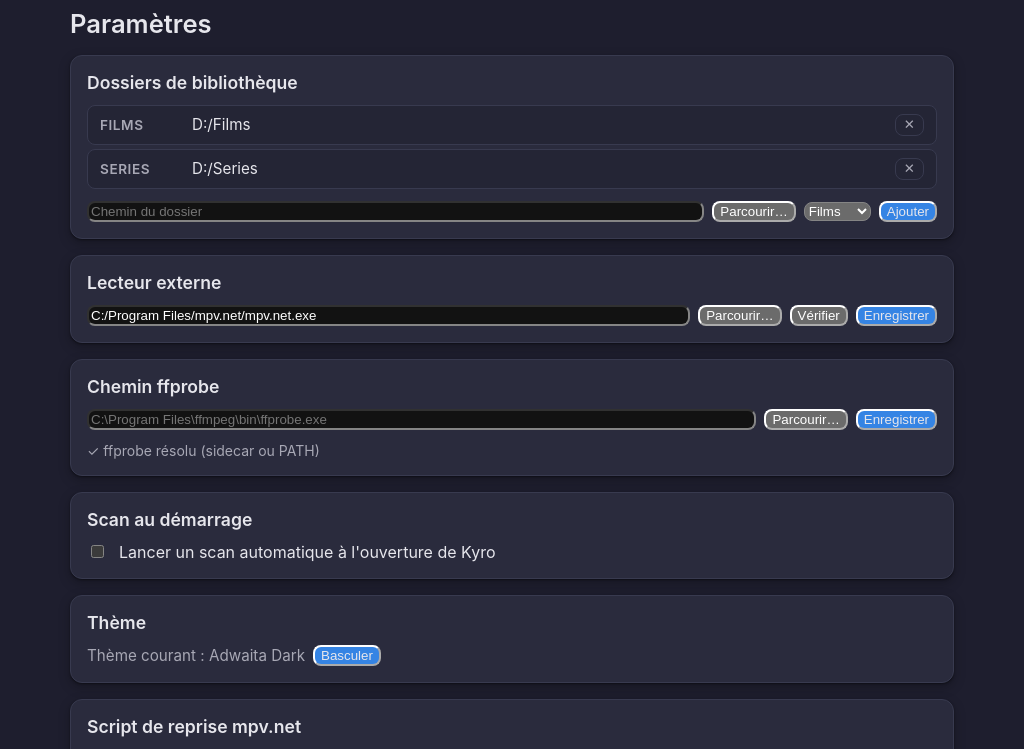
Test case: /settings — section Dossiers de bibliothèque › ouvre le dialogue natif quand l'utilisateur clique sur Parcourir…
Click the 1st button "Parcourir…".
click(754, 212)  # box [712, 201, 796, 222]
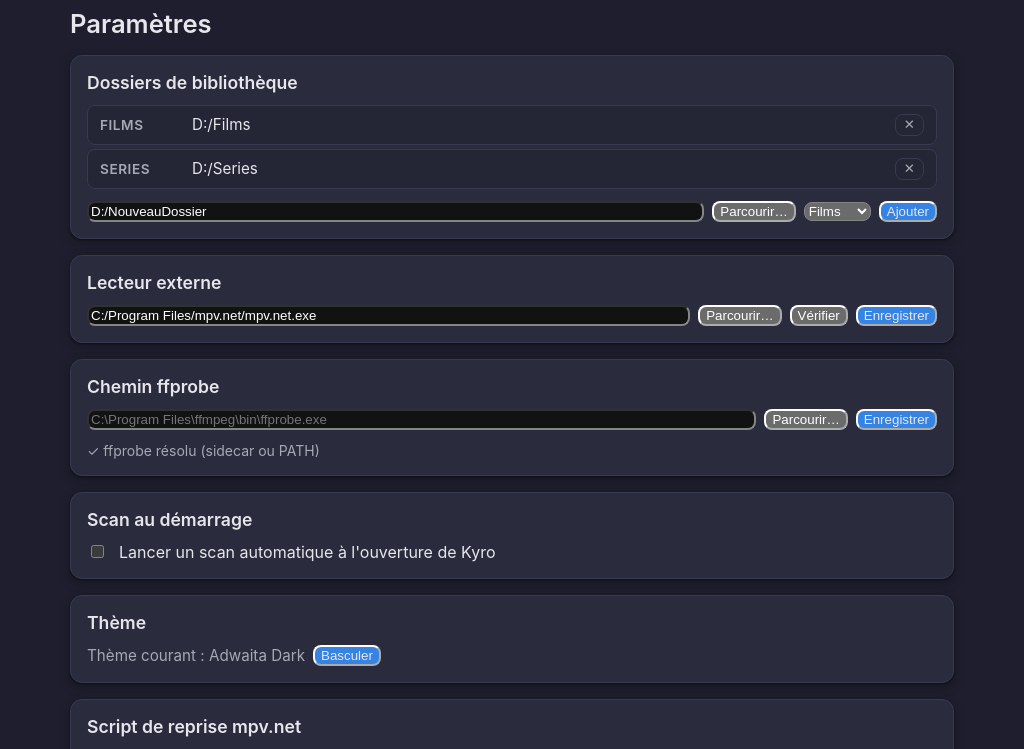
Check: the field named "Chemin du dossier" holds "D:/NouveauDossier", box [87, 201, 704, 222]
